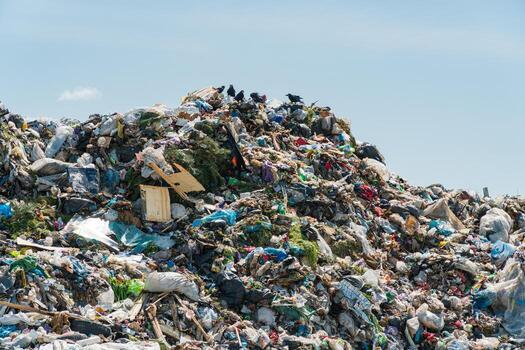Trash: (0, 87, 525, 350)
